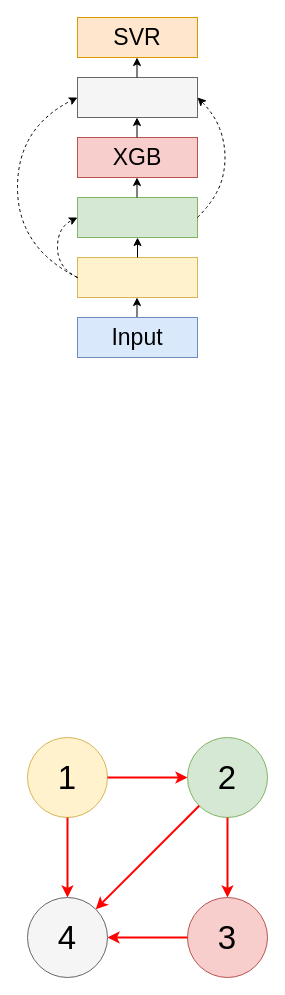
Some shapes in this 285 by 995 pixel diagram are drawn without their labels. The shapes that lost their labels are listed below. From the top down, each one's centre as x and y in pixels, then its label:
At [137,97]: "NB".
At [137,217]: "Adaboost".
At [137,277]: "GBDT".
